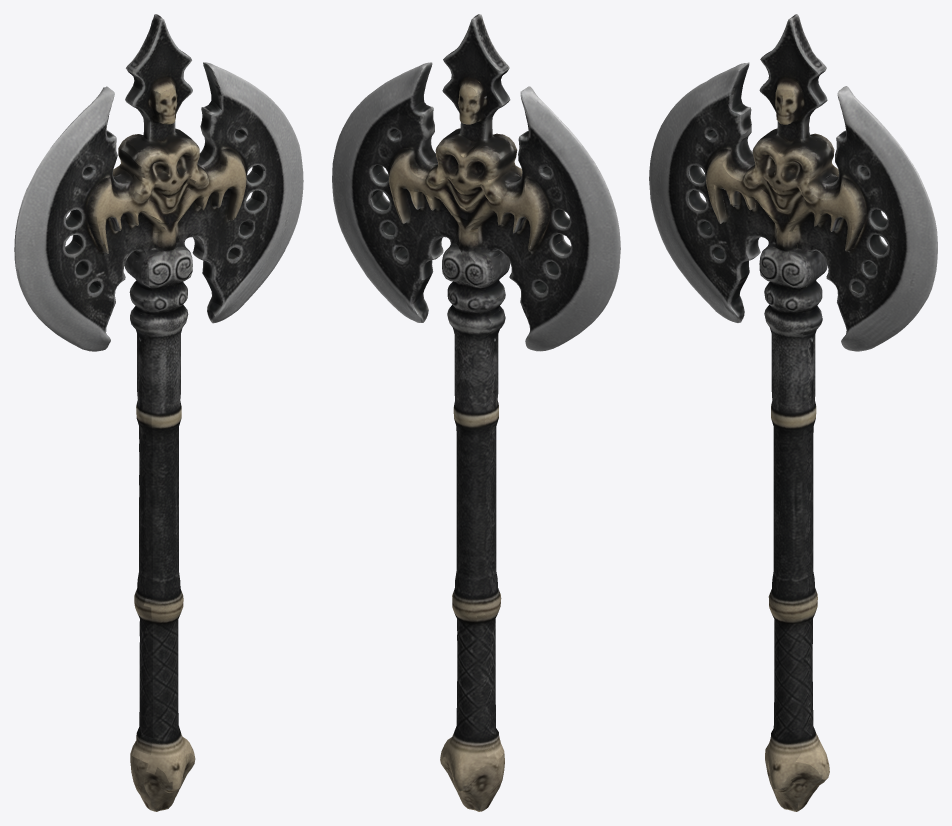
Rendered from Meshy_AI_Skullfang_Battleaxe_1003202214_texture.glb.
3 views of the same model, side by side, from view 1: azimuth 30°, elevation 25°; view 2: azimuth 150°, elevation 25°; view 3: azimuth 330°, elevation 25° (orthographic).
Parts seen in each view (by area): view 1: Mesh0; view 2: Mesh0; view 3: Mesh0.
Part boxes in pixels (x1,y1,x2,y2): Mesh0: (14,14,303,811); Mesh0: (332,14,620,811); Mesh0: (649,14,937,811).
Bounding box in the file's own units: 0.7221 × 1.9 × 0.164.
Materials: 1 (1 with a texture image).
